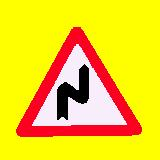double_bend_right: (15, 25, 142, 136)
